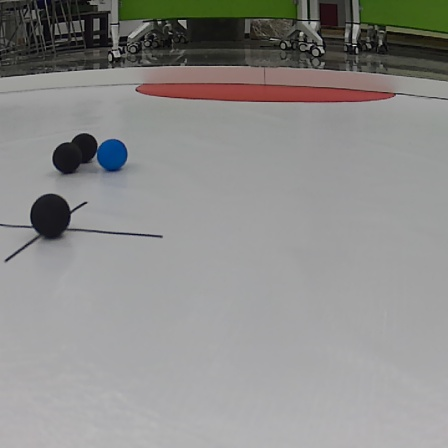black: (28, 191, 78, 236), (69, 132, 100, 159), (52, 140, 79, 170)
blue: (97, 140, 130, 169)
red_base: (132, 75, 399, 109)
